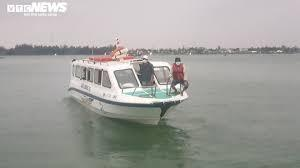Ship: (70, 48, 189, 125)
